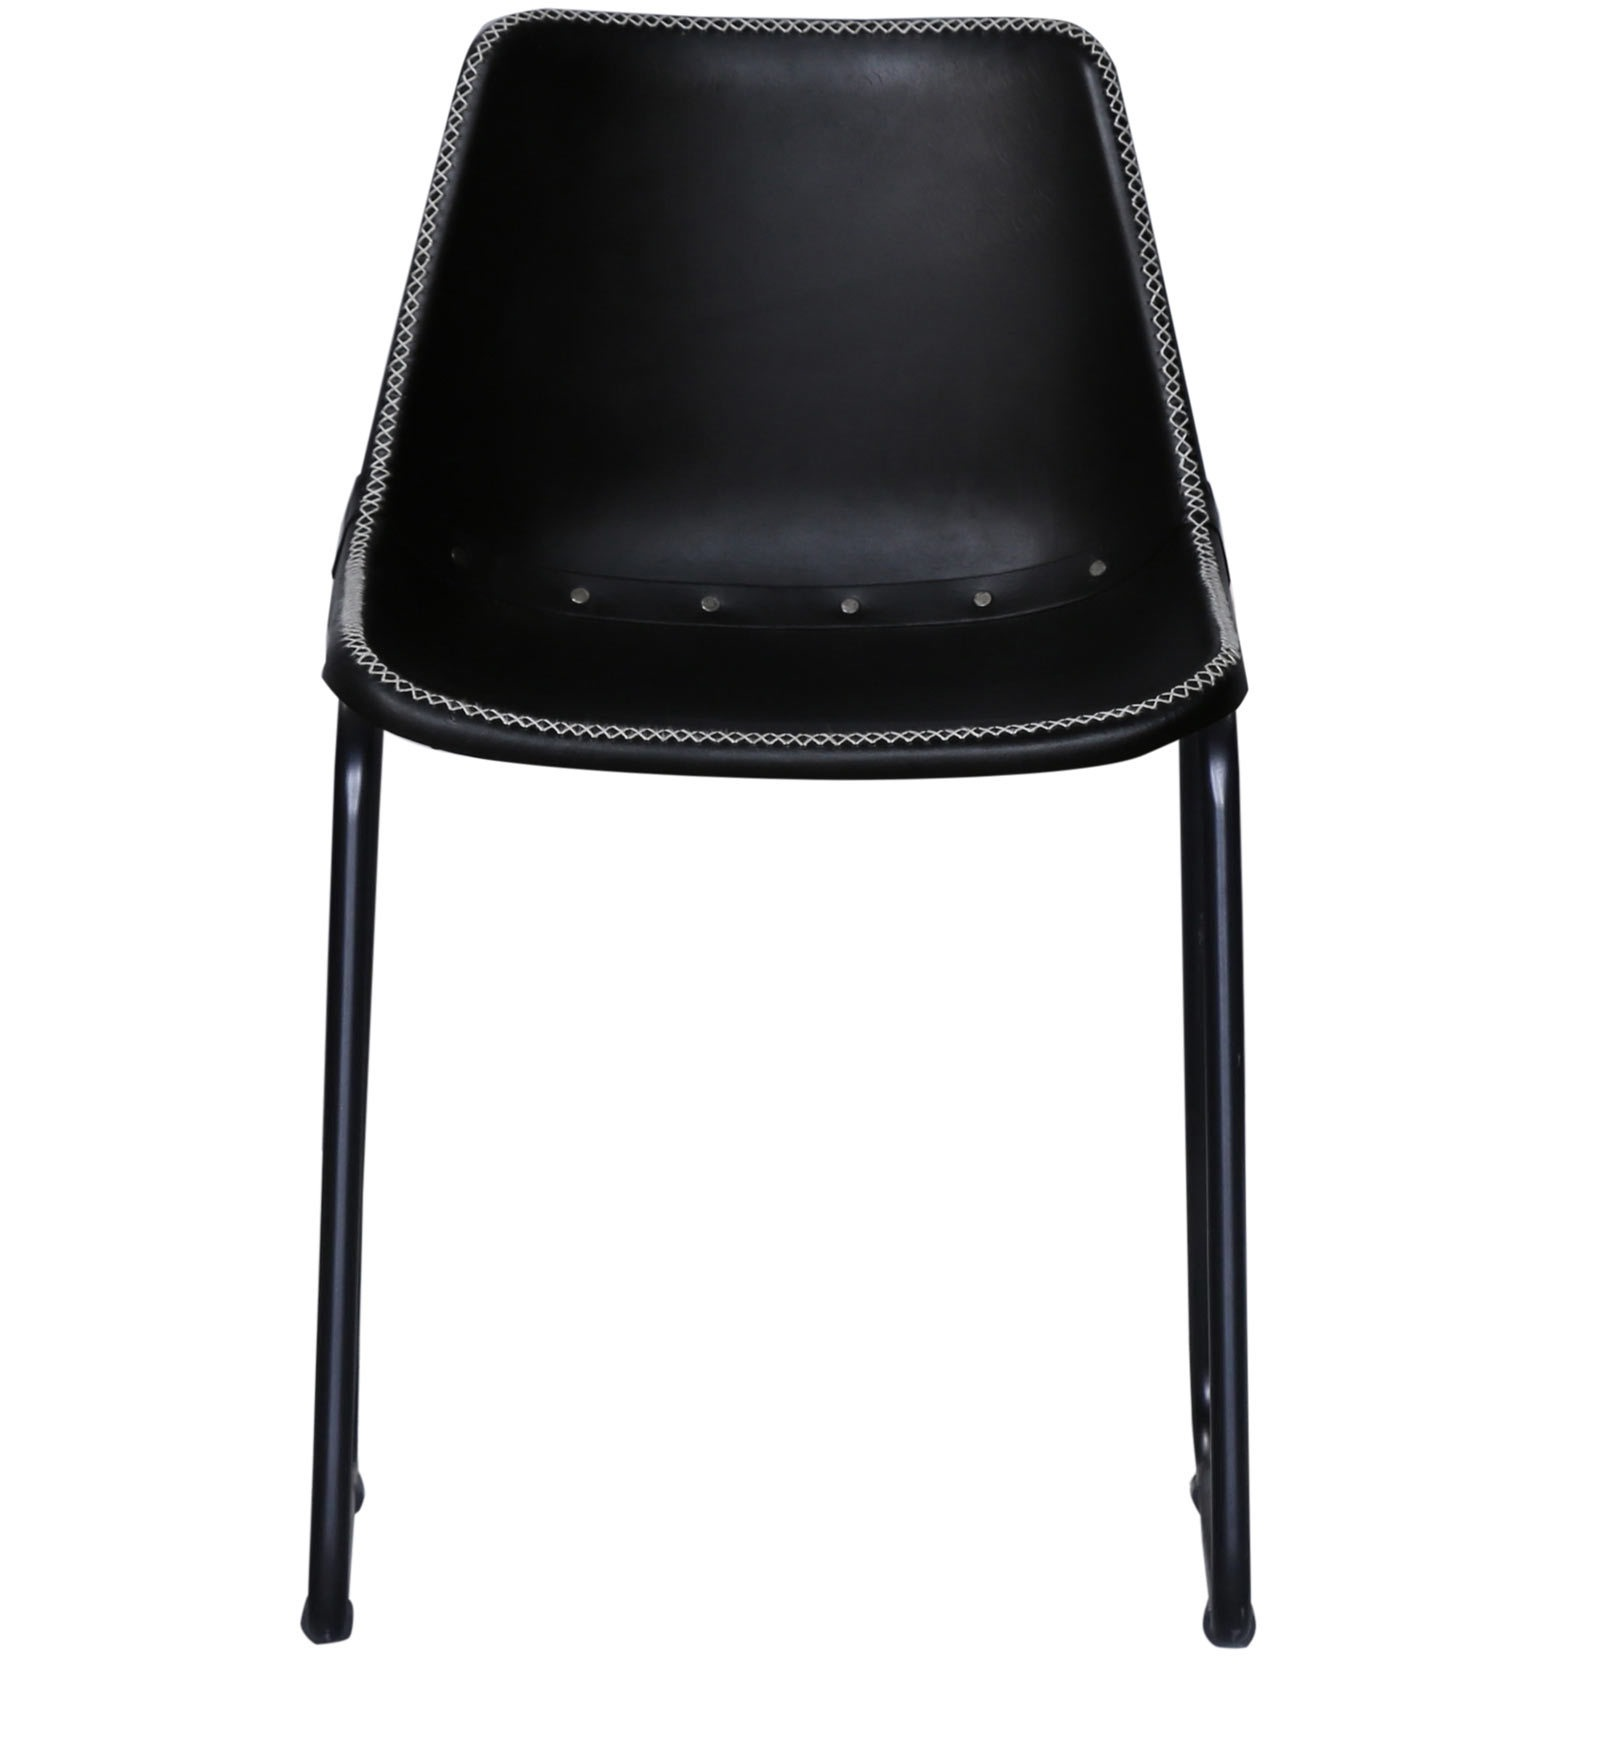Medina Black Color Leather Accent Chair by Bohemiana: (294, 12, 1254, 1648)
